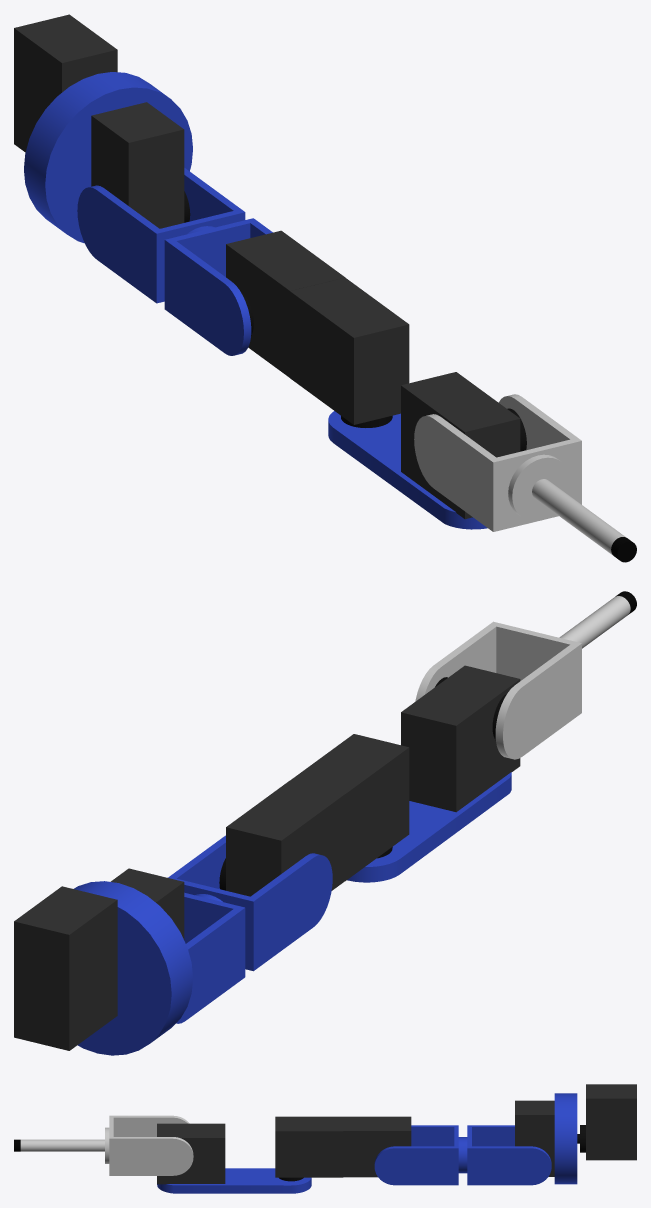
Rendered from generic.obj.
The picture shows the model from 3 angles, top to bottom: view 1: azimuth 30°, elevation 25°; view 2: azimuth 150°, elevation 25°; view 3: azimuth 270°, elevation 25°; orthographic projection. The views are drawn at different scales.
Parts seen in each view (by area): view 1: basic_segment.001_Mesh, basic_segment.002_Mesh, basic_servo_linked.002_Mesh, Cylinder_Mesh, basic_servo.001_Mesh, basic_servo.002_Mesh, basic_servo_linked.001_Mesh, basic_servo.003_Mesh, Cylinder.001_Mesh; view 2: basic_servo_linked.001_Mesh, basic_segment.001_Mesh, basic_segment.002_Mesh, basic_servo.003_Mesh, Cylinder_Mesh, basic_servo.002_Mesh, basic_servo_linked.002_Mesh, Cylinder.001_Mesh, basic_servo.001_Mesh; view 3: basic_segment.001_Mesh, basic_segment.002_Mesh, basic_servo_linked.002_Mesh, basic_servo_linked.001_Mesh, basic_servo.002_Mesh, basic_servo.003_Mesh, Cylinder.001_Mesh, Cylinder_Mesh, basic_servo.001_Mesh, connector_linked.001_Mesh.
Boxes of the visible parts, <box> form: basic_segment.001_Mesh: <box>77,168,272,355</box>; basic_segment.002_Mesh: <box>414,394,636,562</box>; basic_servo_linked.002_Mesh: <box>290,277,409,424</box>; Cylinder_Mesh: <box>24,72,192,243</box>; basic_servo.001_Mesh: <box>91,102,184,228</box>; basic_servo.002_Mesh: <box>226,230,345,377</box>; basic_servo_linked.001_Mesh: <box>14,14,117,152</box>; basic_servo.003_Mesh: <box>401,372,520,519</box>; Cylinder.001_Mesh: <box>328,411,487,529</box>; basic_servo_linked.001_Mesh: <box>14,886,117,1050</box>; basic_segment.001_Mesh: <box>168,835,332,1023</box>; basic_segment.002_Mesh: <box>415,591,636,759</box>; basic_servo.003_Mesh: <box>401,665,520,812</box>; Cylinder_Mesh: <box>74,881,192,1055</box>; basic_servo.002_Mesh: <box>226,780,345,896</box>; basic_servo_linked.002_Mesh: <box>290,734,409,880</box>; Cylinder.001_Mesh: <box>347,772,511,882</box>; basic_servo.001_Mesh: <box>110,868,184,939</box>; basic_segment.001_Mesh: <box>374,1125,551,1185</box>; basic_segment.002_Mesh: <box>14,1115,193,1175</box>; basic_servo_linked.002_Mesh: <box>275,1116,343,1177</box>; basic_servo_linked.001_Mesh: <box>586,1084,636,1160</box>; basic_servo.002_Mesh: <box>343,1116,411,1177</box>; basic_servo.003_Mesh: <box>157,1123,225,1184</box>; Cylinder.001_Mesh: <box>157,1168,311,1193</box>; Cylinder_Mesh: <box>554,1093,577,1184</box>; basic_servo.001_Mesh: <box>515,1100,554,1176</box>; connector_linked.001_Mesh: <box>577,1125,585,1152</box>.
Size of the model in its own units: 2 by 2.27 by 13.71.
